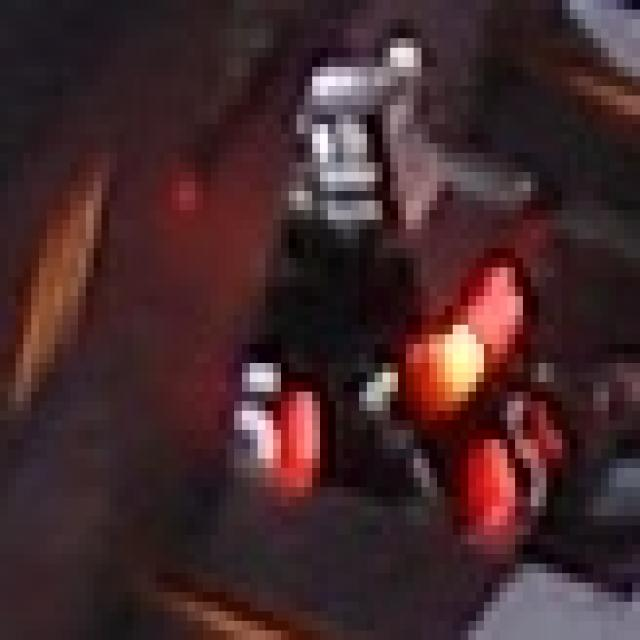R5: (468, 382, 562, 535)
